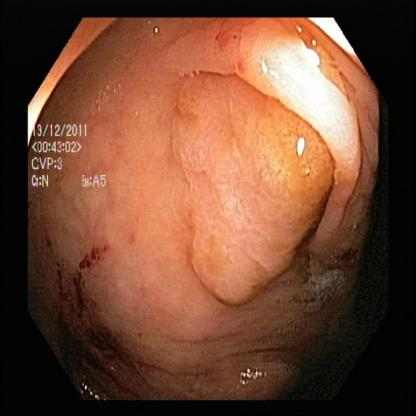Labels: (32, 116, 108, 200)
Polyps: (181, 77, 313, 293)
